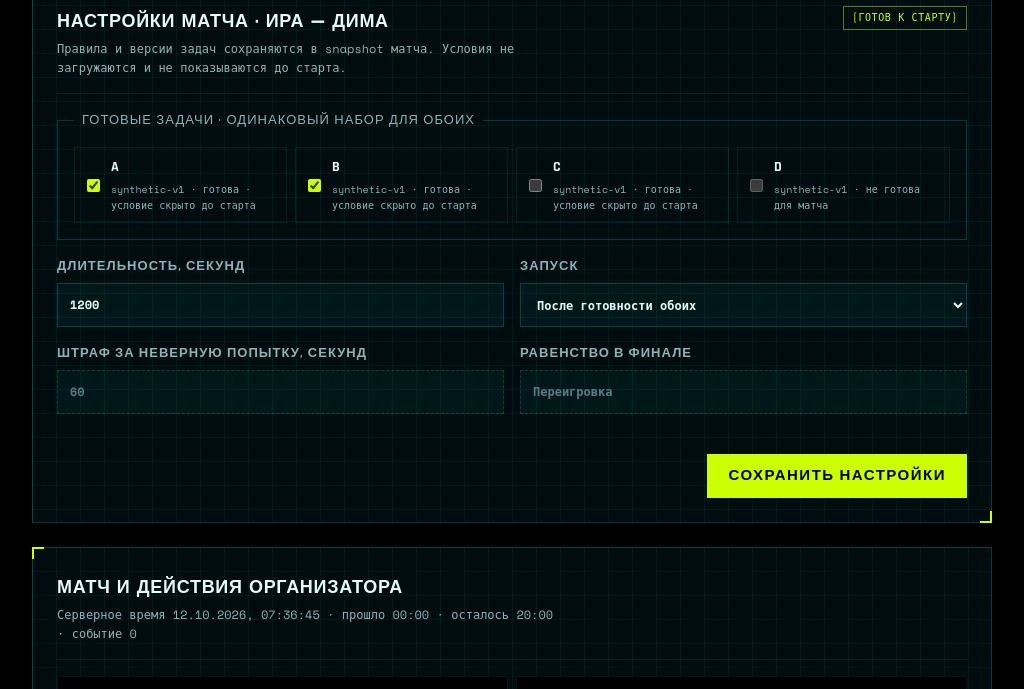
Test: admin bracket and match controls › lets the organizer start manually after selecting the manual mode
This screenshot has width=1024, height=689.
(page scrolled)
Select "Вручную организатором" in the dropdown labelled "Запуск": point(744, 305) [520,283,967,327]
Click the button "Сохранить настройки": point(837, 476) [708,454,967,498]
(page scrolled)
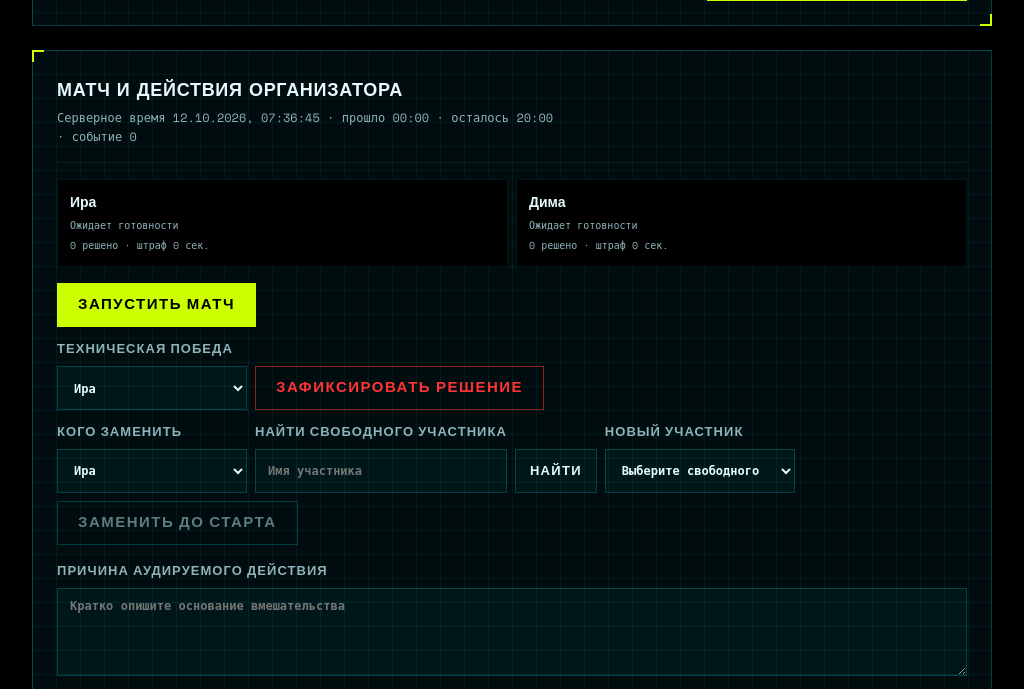
Click the button "Запустить матч": point(157, 305) [57,283,256,327]
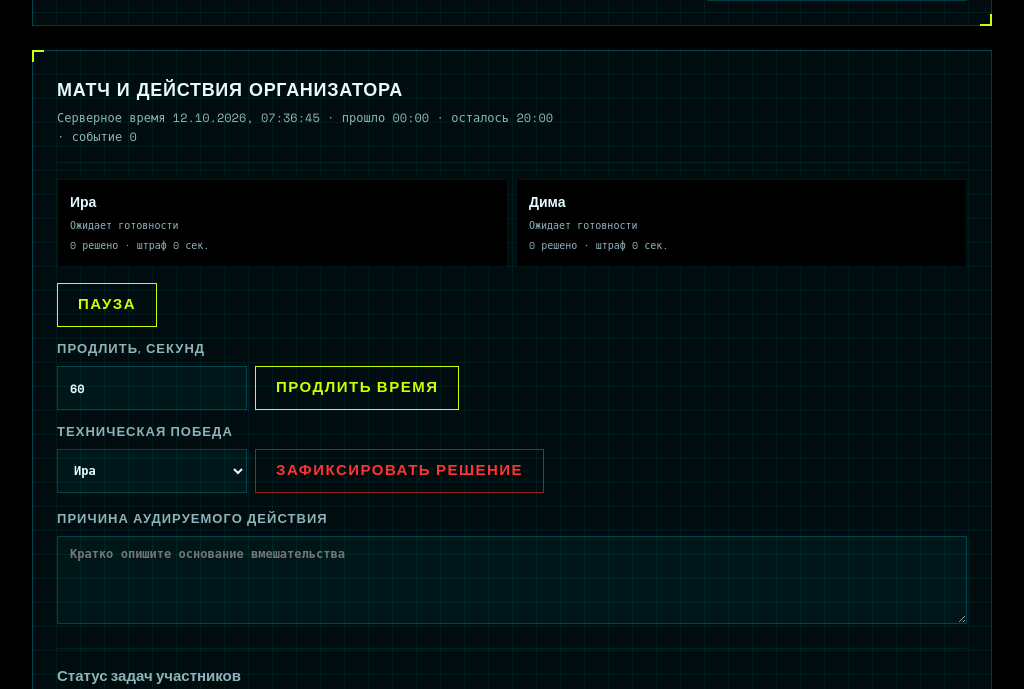
In the text box labelled "Причина аудируемого действия": point(512, 580) [57,536,967,624], type "Остановка по просьбе судьи"
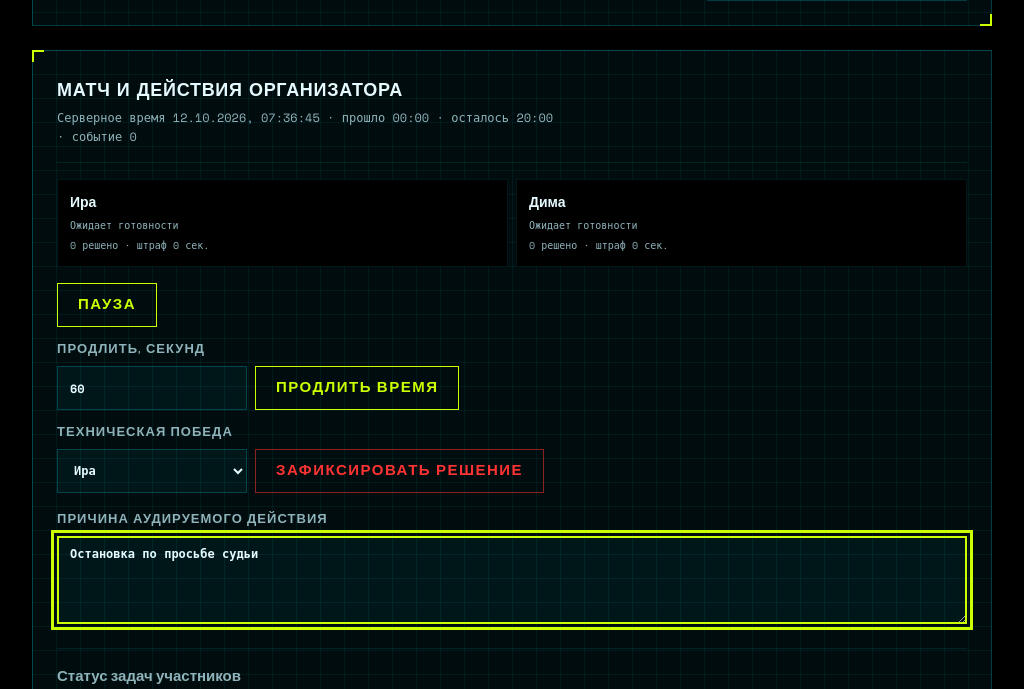
Click the button "Пауза": point(107, 305) [57,283,157,327]
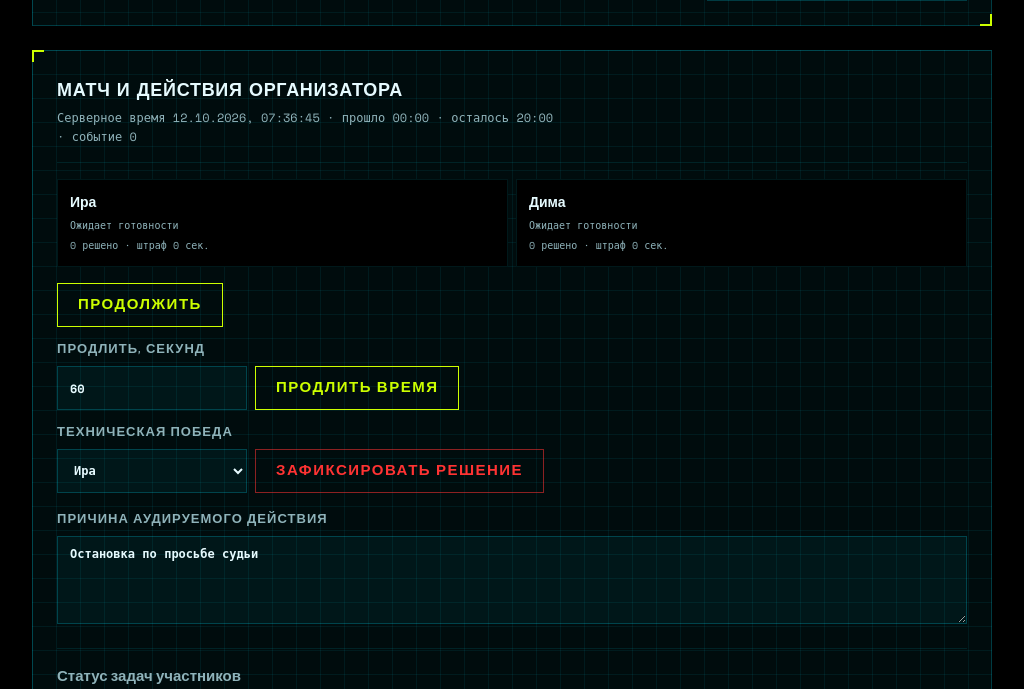
Now the button "Продолжить" is shown, box [57,283,223,327]
Click the button "Продлить время": point(357, 388) [255,366,459,410]
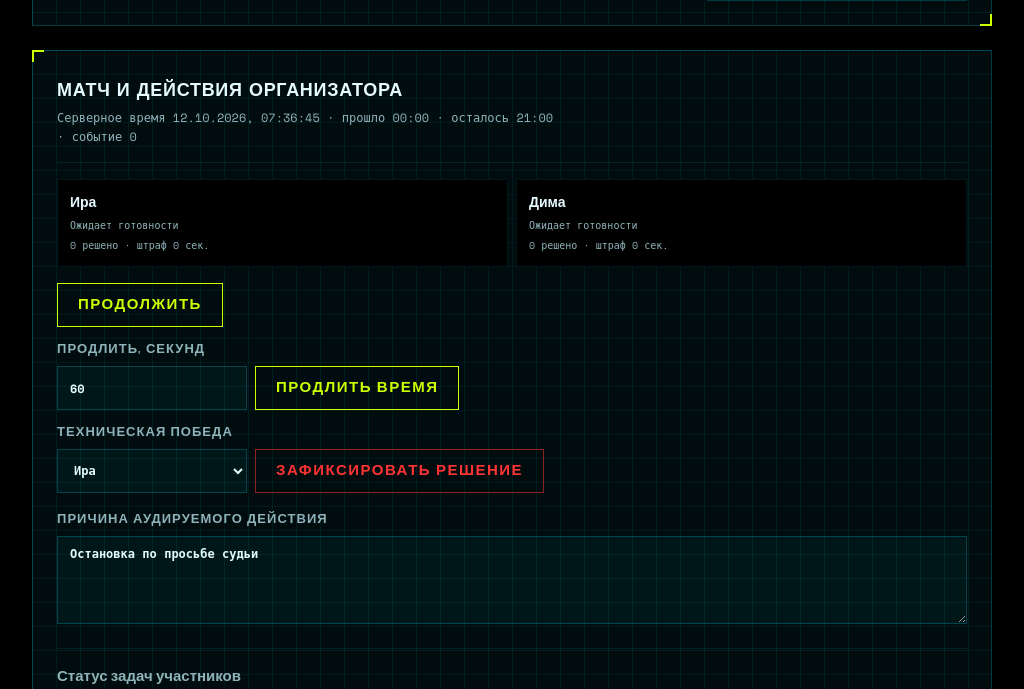
Now the text "осталось 21:00" is shown, box [57,108,556,146]
Click the button "Продолжить": point(140, 305) [57,283,223,327]
(page scrolled)
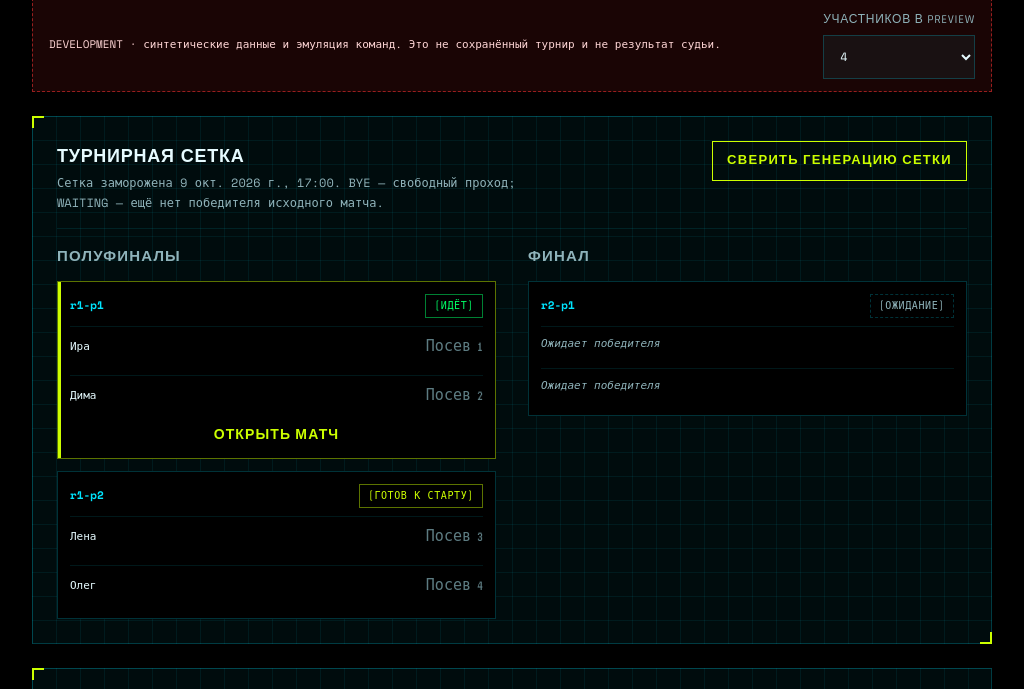
Now the text "Идёт" is shown, box [425,294,483,318]
